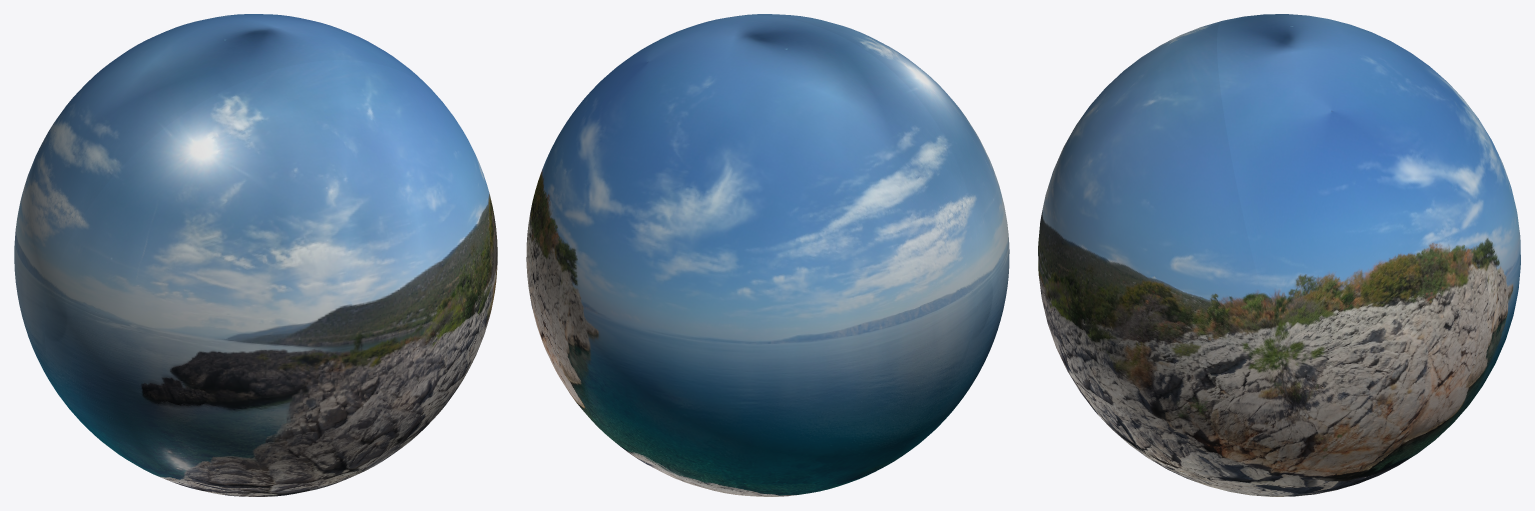
Rendered from sphere-panorama.glb.
3 views of the same model, side by side, from view 1: azimuth 30°, elevation 25°; view 2: azimuth 150°, elevation 25°; view 3: azimuth 270°, elevation 25° (orthographic).
Parts seen in each view (by area): view 1: sphere; view 2: sphere; view 3: sphere.
Part boxes in pixels (x1=…): sphere: x1=14, y1=14, x2=497, y2=496; sphere: x1=526, y1=14, x2=1009, y2=496; sphere: x1=1038, y1=14, x2=1520, y2=496.
Size of the model in its own units: 2 by 2 by 2.
1 material, 1 textured.
